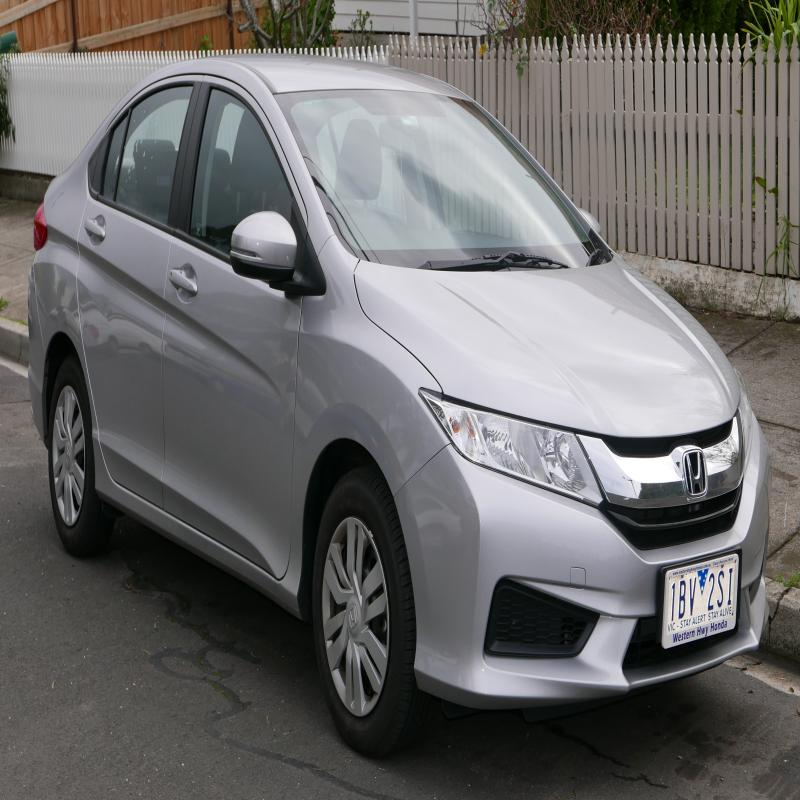car: (18, 65, 775, 759)
